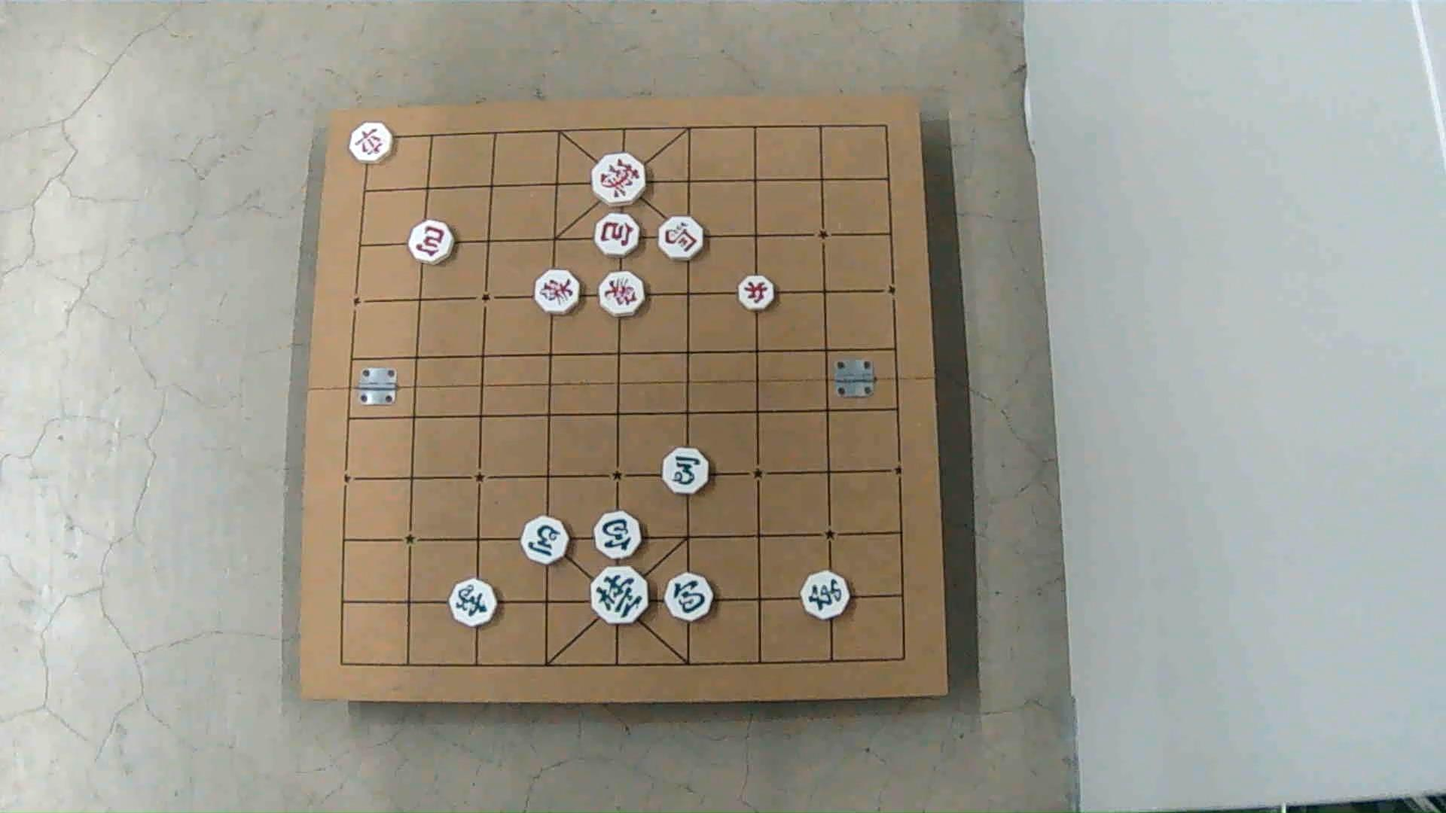cha_green: (801, 573, 848, 620)
cha_red: (351, 123, 395, 163)
jol_red: (738, 275, 776, 311)
ma_green: (522, 516, 570, 564), (661, 446, 709, 492)
ma_red: (657, 215, 703, 259)
po_green: (594, 510, 642, 559), (666, 574, 713, 623)
po_red: (596, 214, 642, 257), (407, 219, 452, 262)
sang_green: (451, 580, 498, 628)
sang_red: (599, 273, 646, 318), (536, 271, 581, 315)
wang_green: (593, 565, 651, 624)
wang_red: (595, 153, 649, 205)
